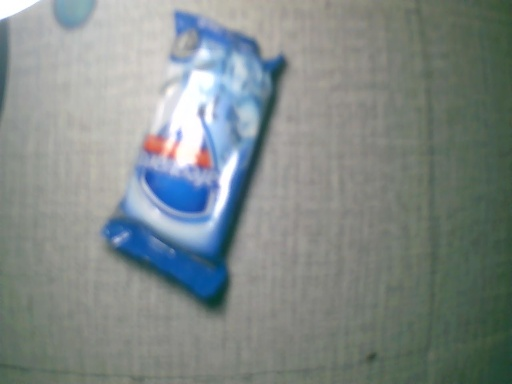plastic: (97, 4, 290, 306)
